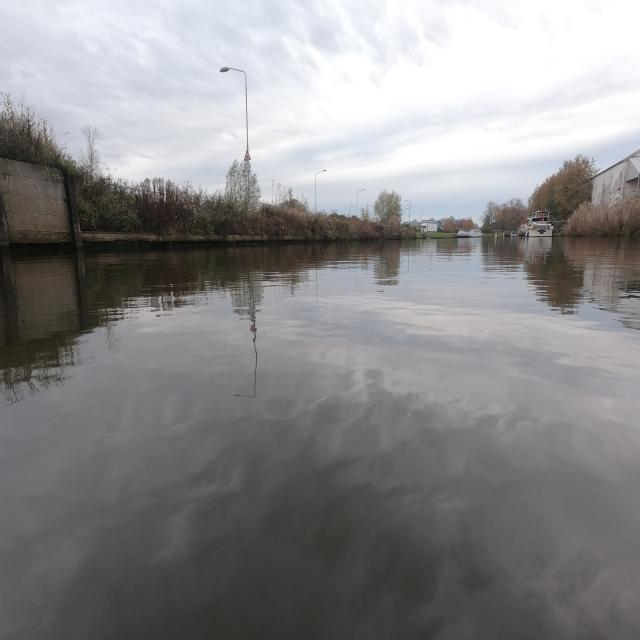boat: (519, 212, 552, 235)
dock: (80, 232, 162, 241)
reed: (74, 163, 408, 240), (558, 190, 639, 235)
sky: (6, 1, 638, 217)
wall: (1, 157, 78, 245)
water: (1, 234, 638, 639)
